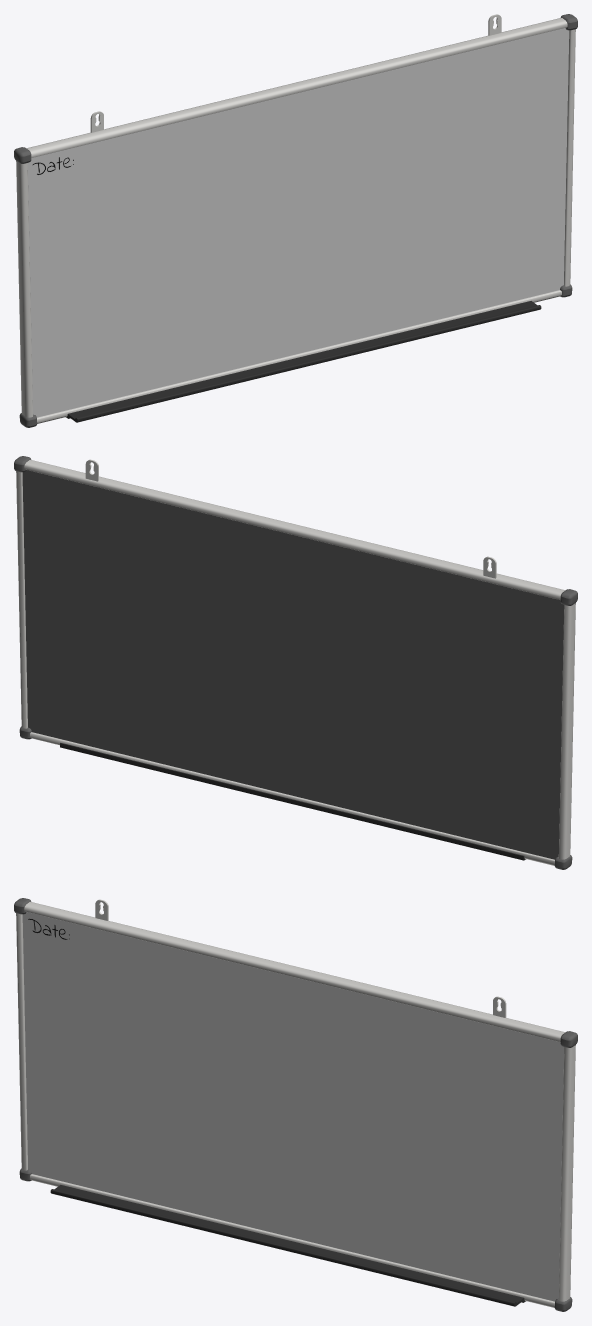
Rendered from whiteboard_low_poly.glb.
3 renders of one model, top to bottom at view 1: azimuth 30°, elevation 25°; view 2: azimuth 150°, elevation 25°; view 3: azimuth 330°, elevation 25°, orthographic.
Parts seen in each view (by area): view 1: Lavagna_0; view 2: Lavagna_0; view 3: Lavagna_0.
Part boxes in pixels (<box>): Lavagna_0: <box>14,14,577,427</box>; Lavagna_0: <box>14,456,577,869</box>; Lavagna_0: <box>14,898,577,1311</box>.
Bounding box in the file's own units: 2.63 × 1.33 × 0.1447.
1 material, 1 textured.
